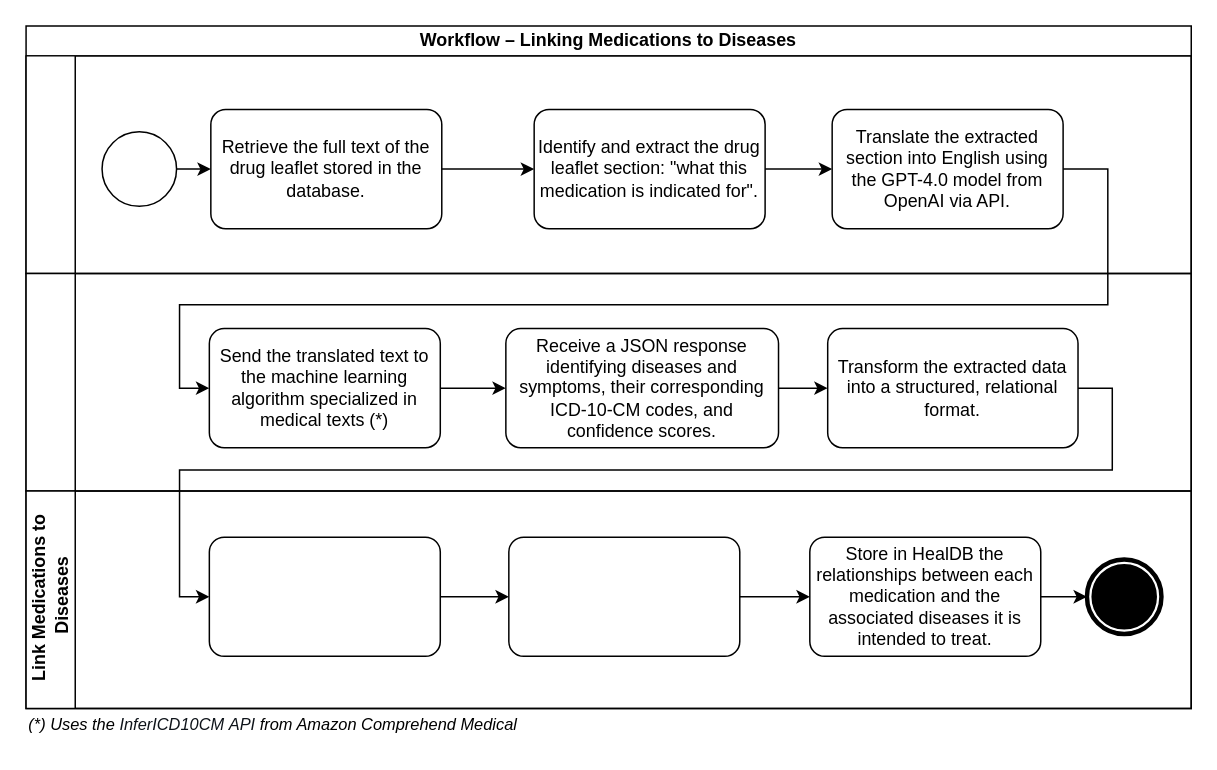
The diagram is 1217 pixels wide and 770 high, and some of its shapes have lost their labels. The box of each missing label's shape, as (x1, y1, x2, y2) in pixels:
Analyze the Texts: (25, 272, 1191, 491)
Apply our criteria to select ICD codes , keeping those with high confidence.: (208, 536, 440, 656)
Extract and Translate Leaflet Sections: (25, 54, 1191, 273)
Match the ICD codes to reference disease classifications in HealDB.: (507, 536, 740, 656)
